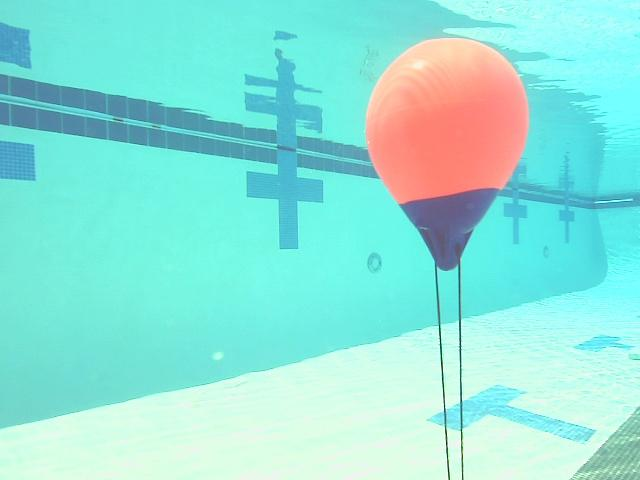buoy: (366, 37, 528, 272)
